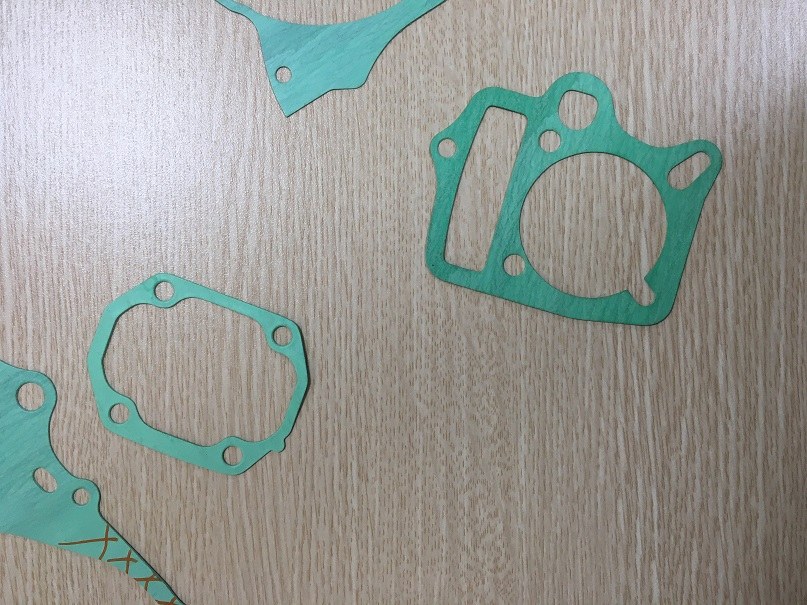type2: (79, 265, 321, 477)
type4: (419, 69, 726, 333)
